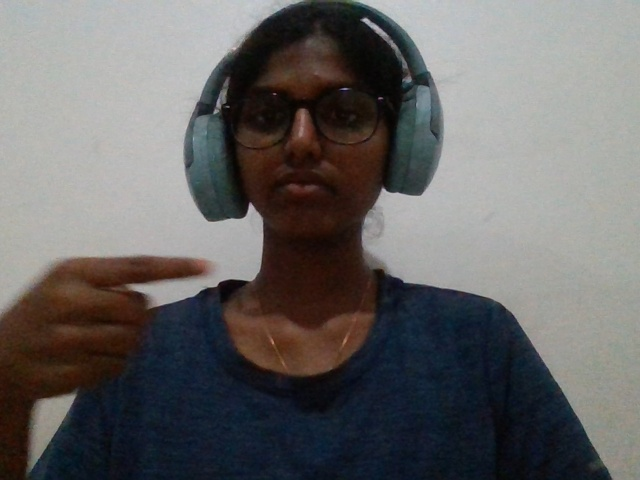Me: (14, 225, 244, 429)
